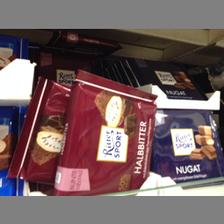chocolate: (53, 72, 156, 195), (151, 110, 224, 183), (127, 60, 209, 100)
